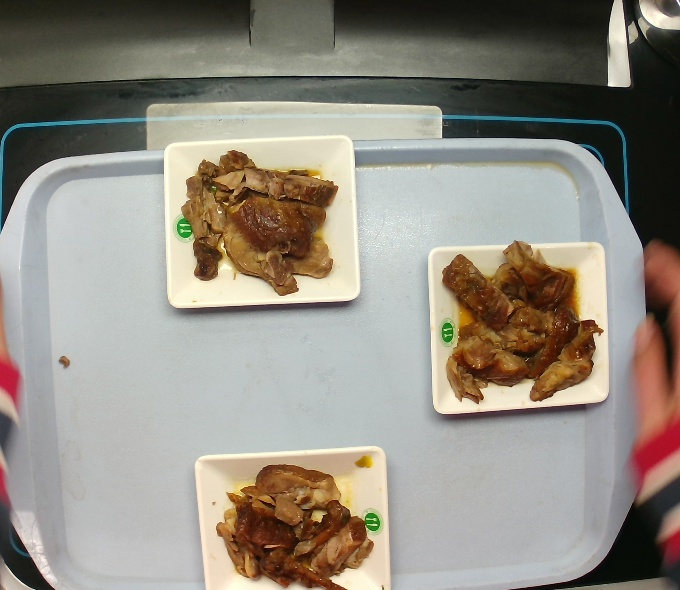wcq-YaRou: (437, 229, 597, 414), (186, 149, 341, 292), (218, 465, 372, 583)
